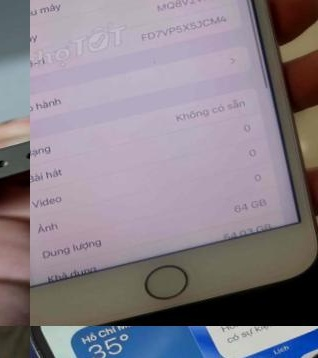scratch: (30, 326, 80, 358)
